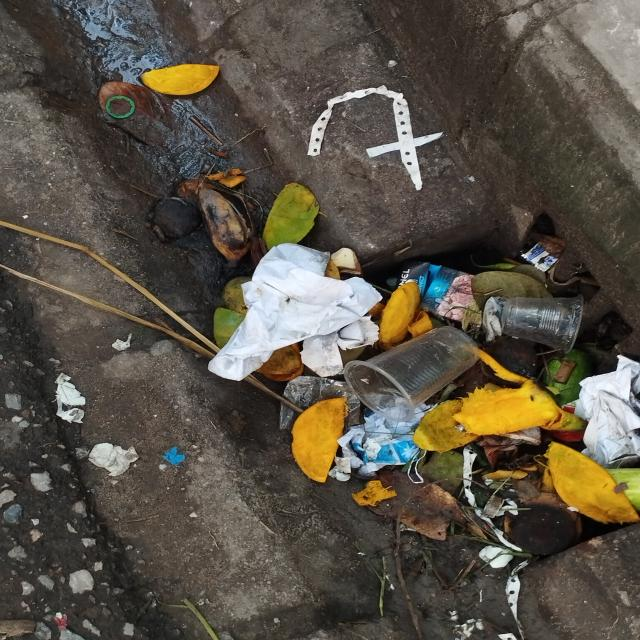paper: (579, 358, 640, 464)
plastic: (340, 326, 482, 420), (498, 290, 586, 350)
